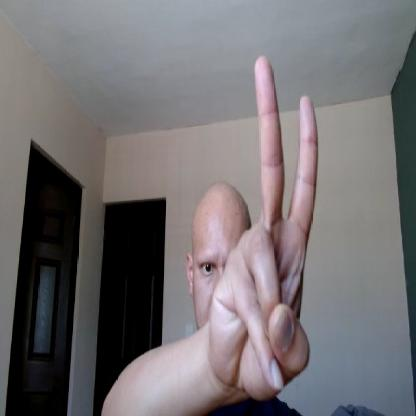V: (208, 53, 318, 401)
